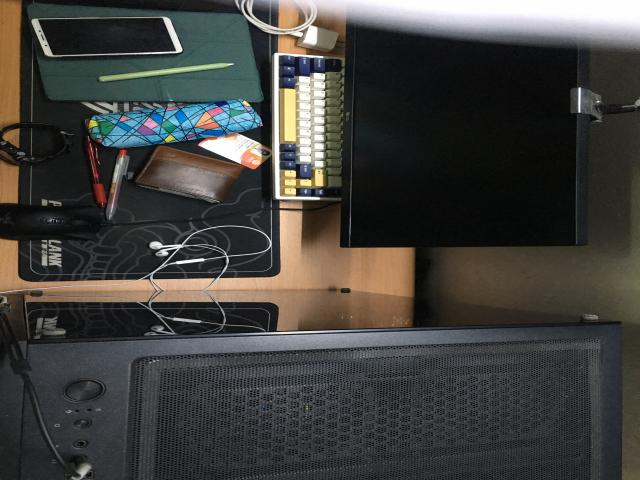Mobile phone: (32, 17, 183, 57)
Mouse: (0, 203, 102, 240)
Pen: (105, 149, 130, 220), (83, 136, 107, 208)
Wallet: (135, 145, 245, 202)
Watch: (0, 123, 73, 166)
wire: (148, 225, 273, 278), (235, 0, 338, 52)
